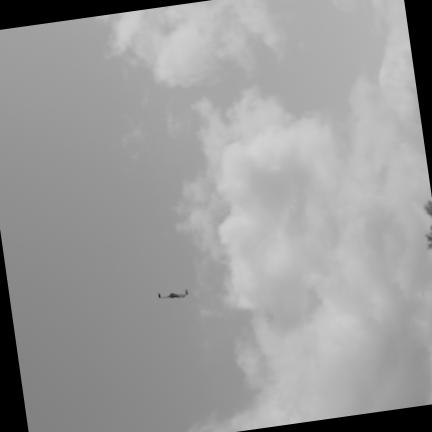Shahed: (158, 289, 187, 297)
